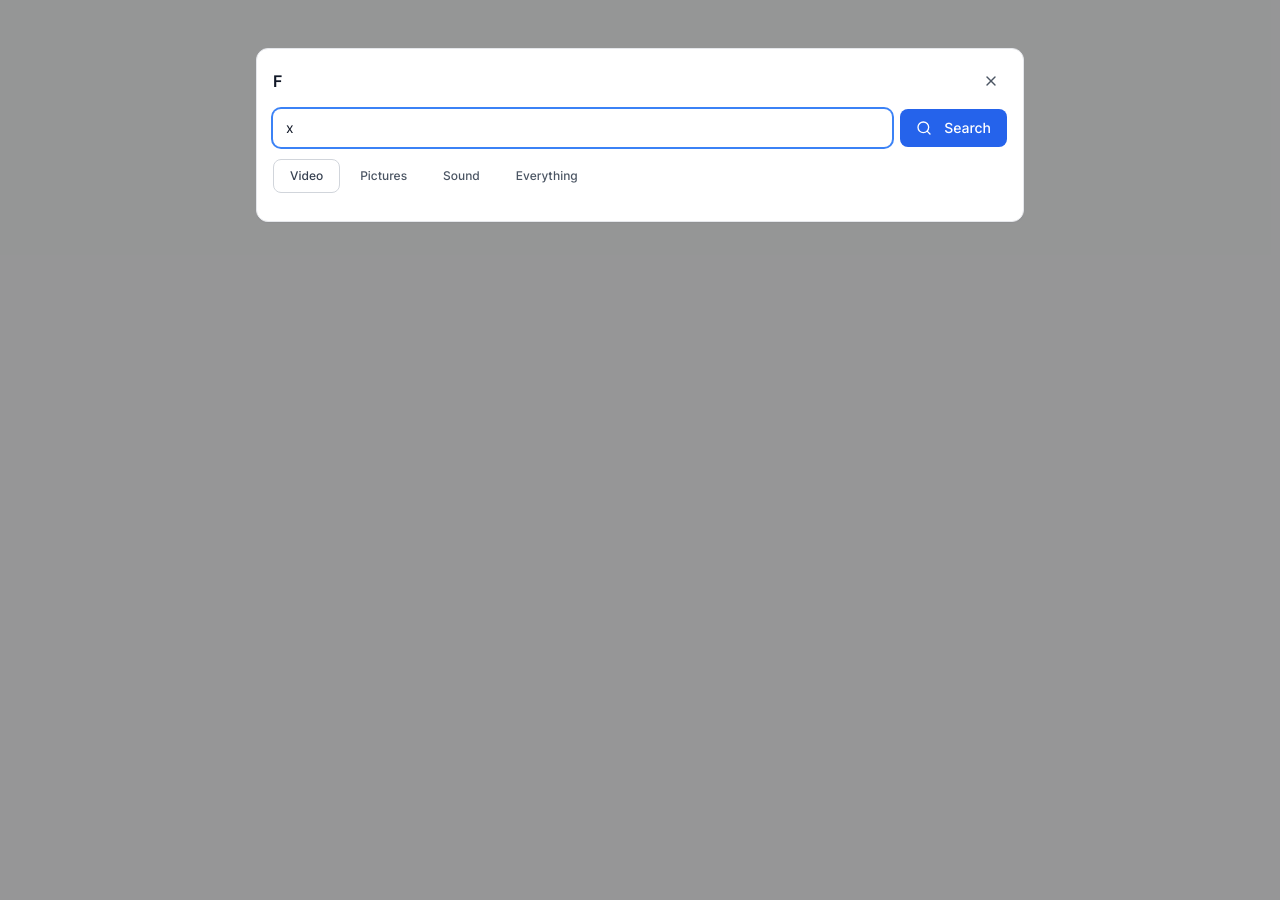
Scenario: FootageSearch › says when only the word-matching half of the search ran
The image size is (1280, 900).
Click the button "Search". click: (954, 128)
box: [900, 109, 1007, 147]
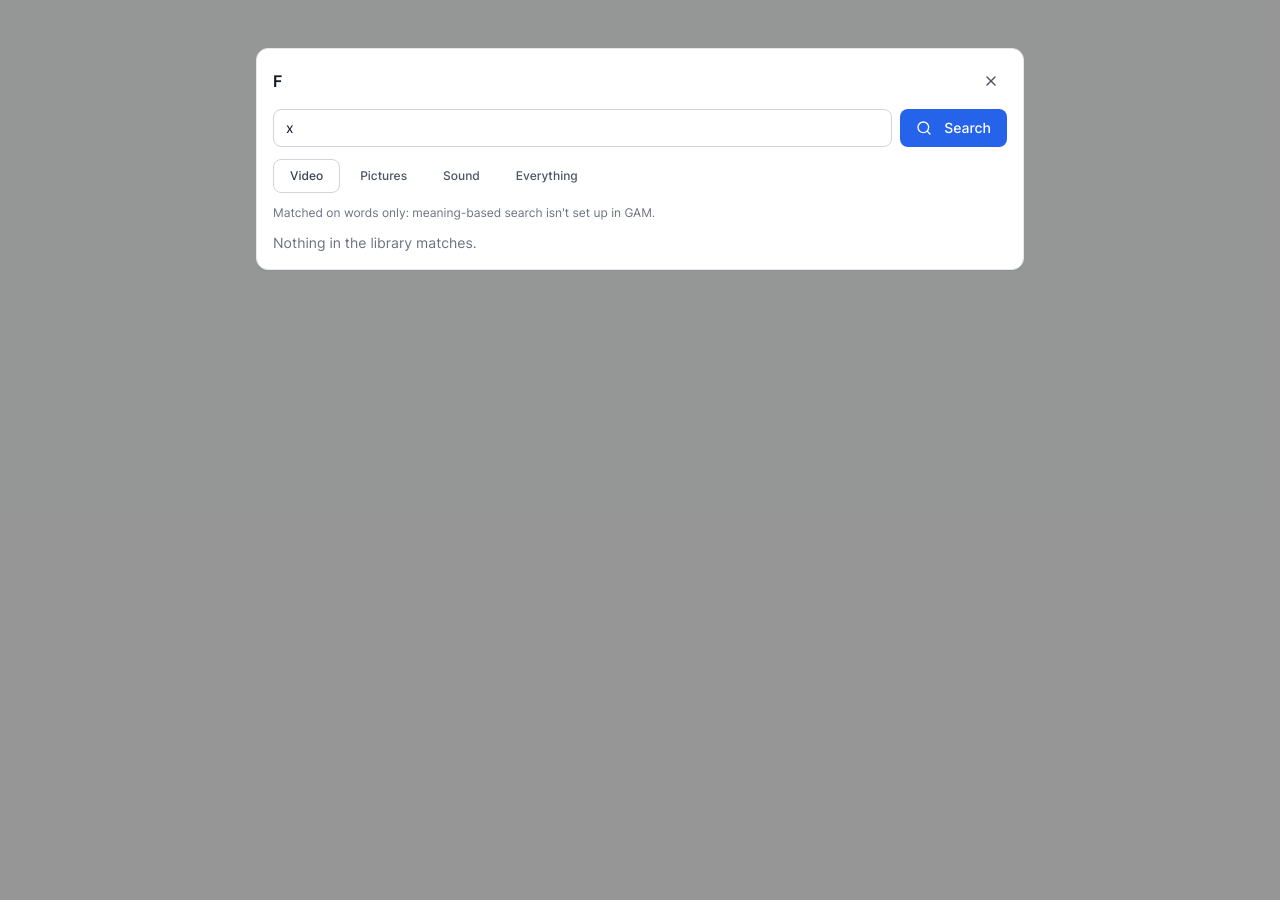
Check: the text "Matched on words only" is shown, box [273, 205, 655, 220]
Check: the list item "Nothing in the library matches." is shown, box [273, 234, 477, 251]
